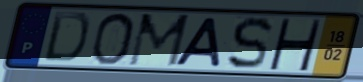A: (172, 15, 224, 69)
D: (41, 10, 92, 65)
H: (266, 17, 323, 73)
M: (125, 12, 193, 68)
O: (89, 11, 138, 67)
S: (225, 15, 275, 72)
